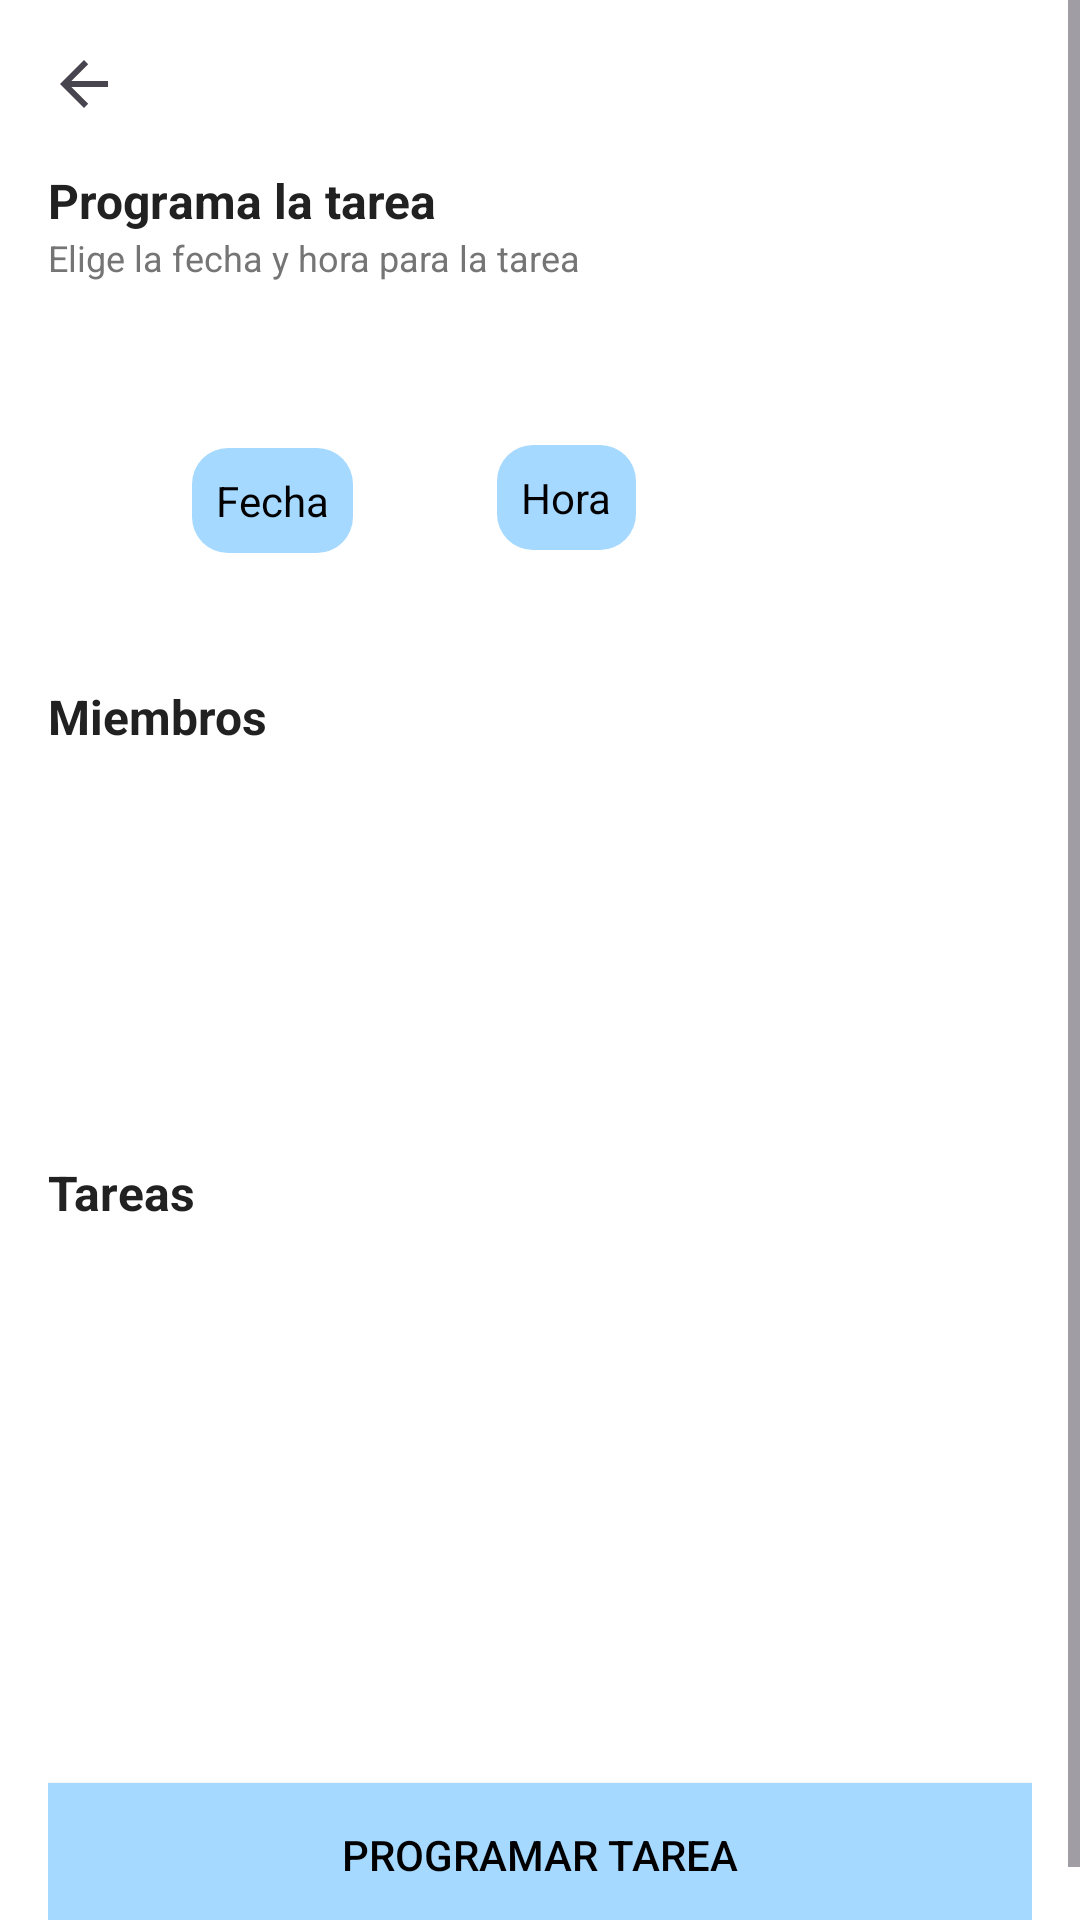

Where to tap for icons on this 1080×1920 app screen, as [x,y]:
Volver: [84,84]
